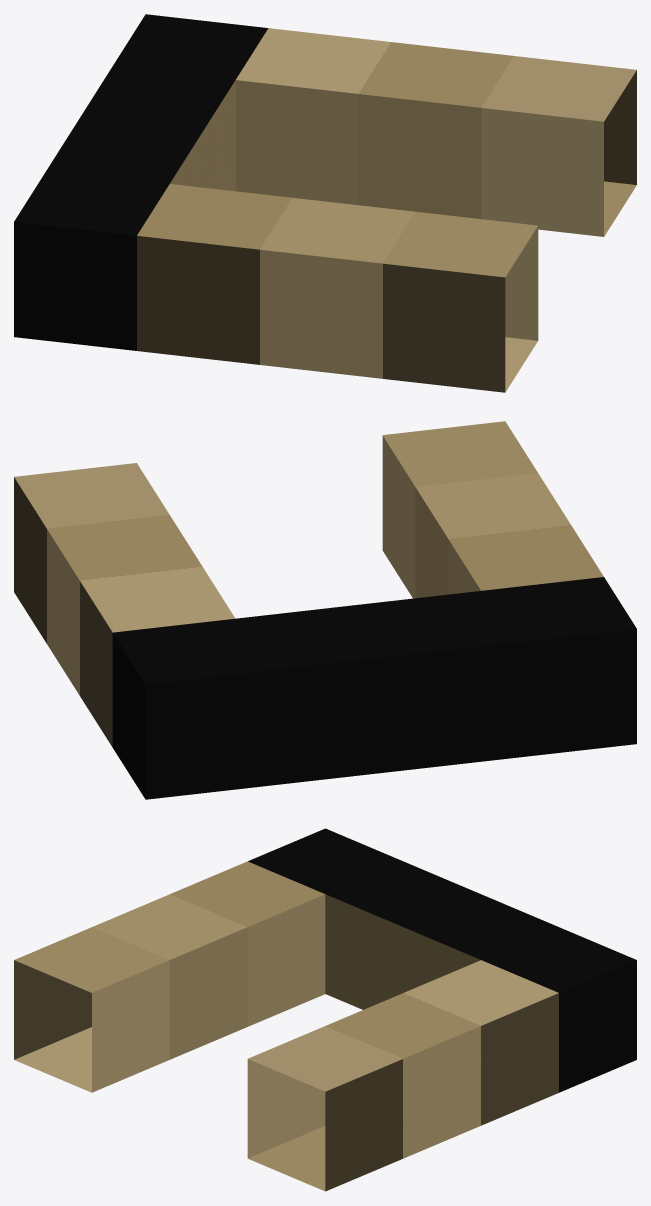
Rendered from marker_switch_handle_off.obj.
3 views of the same model, one above another, from view 1: azimuth 30°, elevation 25°; view 2: azimuth 150°, elevation 25°; view 3: azimuth 270°, elevation 25° (orthographic). The views are drawn at different scales.
Visible parts, largest first — view 1: Cube.002_Cube.005; view 2: Cube.002_Cube.005; view 3: Cube.002_Cube.005.
Boxes of the visible parts, x1,y1,x2,y2 form: Cube.002_Cube.005: (14,14,636,392); Cube.002_Cube.005: (14,421,636,799); Cube.002_Cube.005: (14,828,636,1191).
Size of the model in its own units: 0.3536 by 0.0625 by 0.3536.
